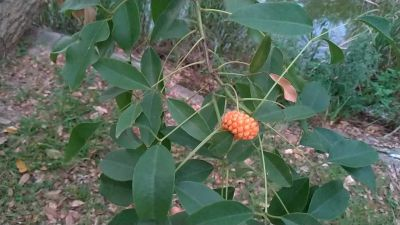eggs: (225, 110, 260, 141)
